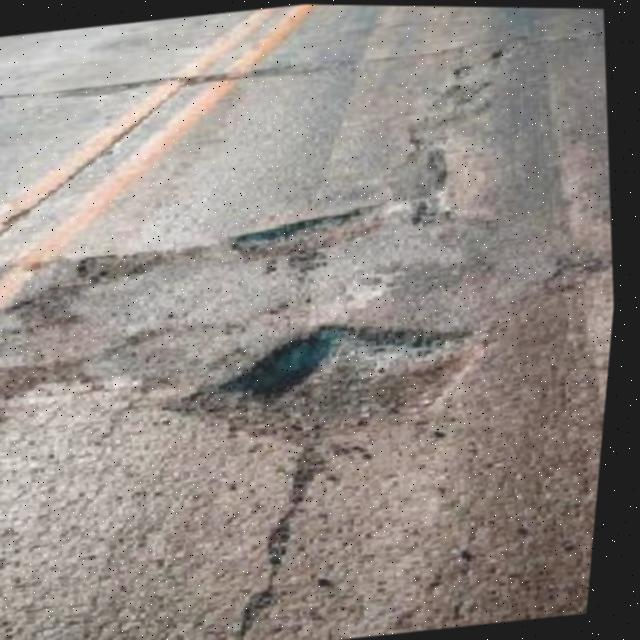Pothole: (166, 299, 510, 465), (220, 197, 394, 263), (0, 343, 103, 406), (71, 239, 183, 285)
